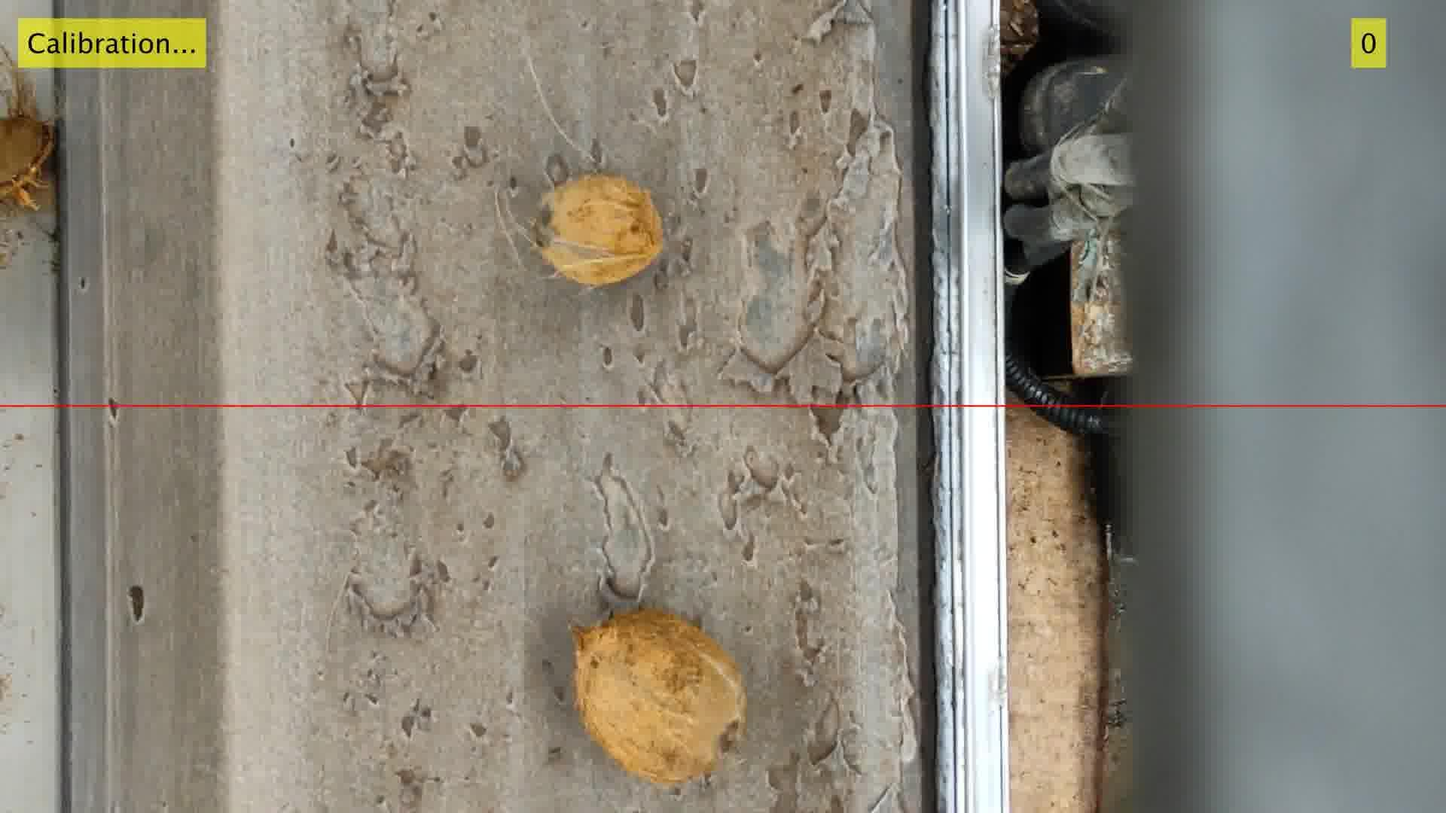Coconut: (572, 610, 746, 784), (530, 173, 666, 287), (0, 47, 56, 209), (0, 115, 55, 210)
